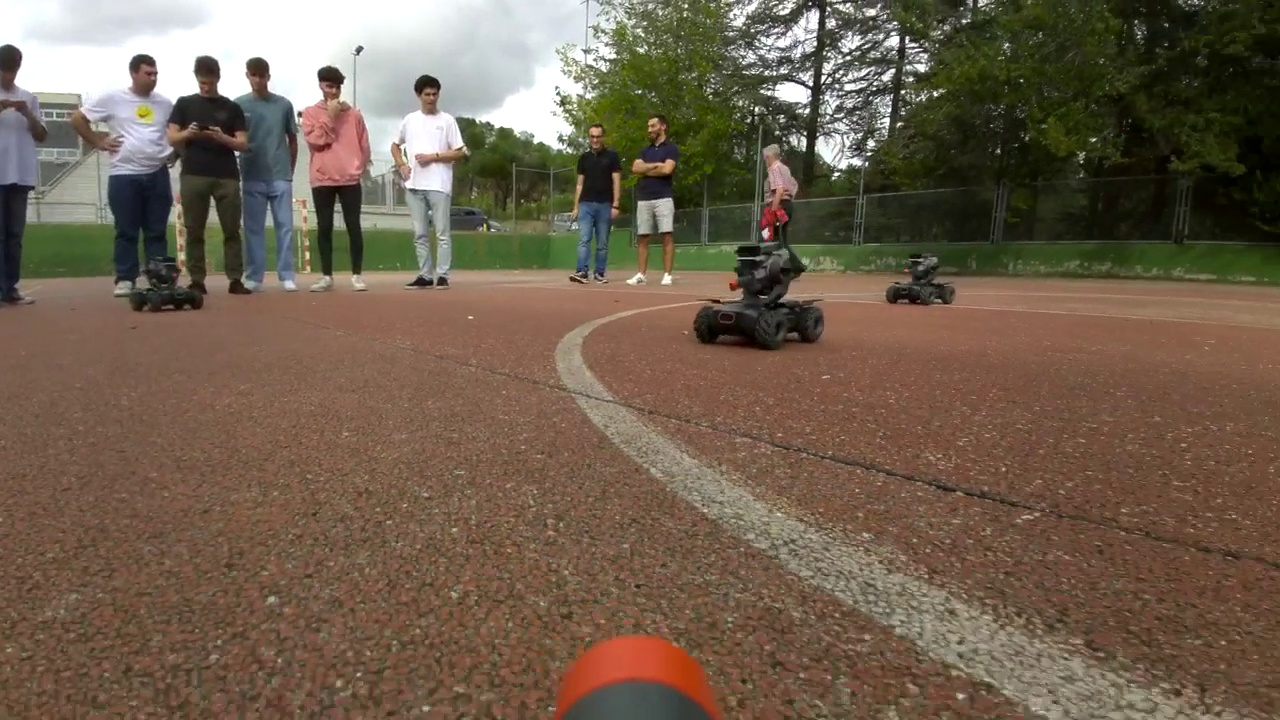robot: (696, 241, 825, 348), (131, 256, 204, 311), (887, 253, 957, 305)
